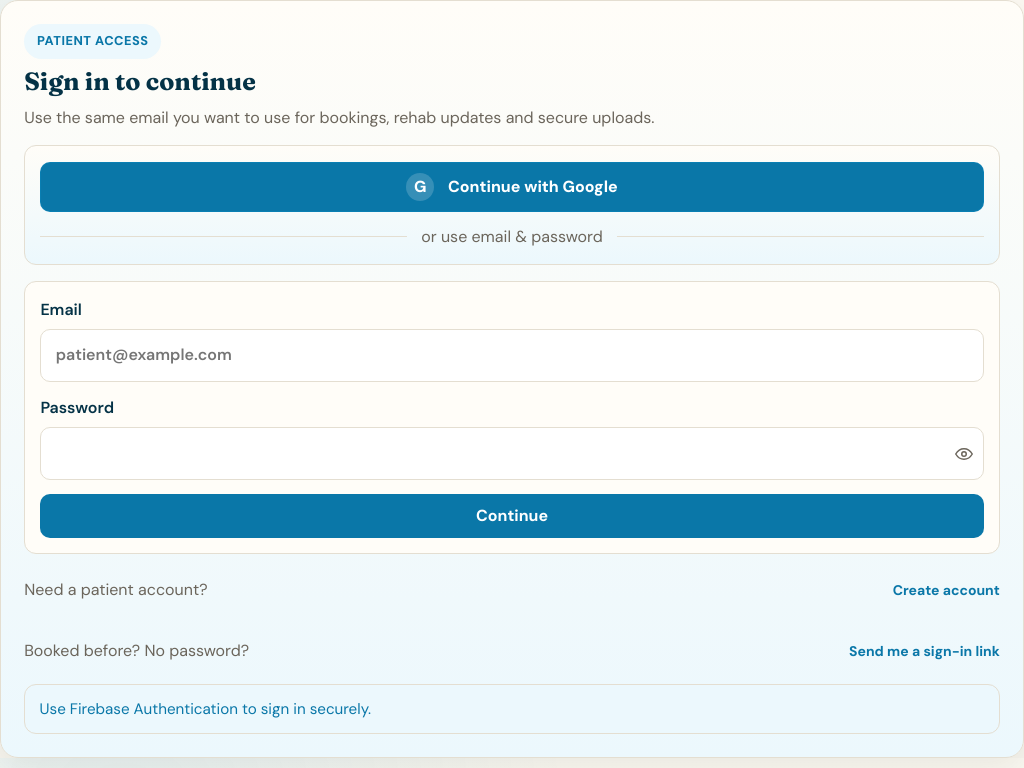
it: AuthPanel › does not redirect after sign-in when redirectTo is null (booking flow continuity)
The image size is (1024, 768).
In the field labelled "Email": (512, 355) [40,329,984,382], type "jane@example.com"
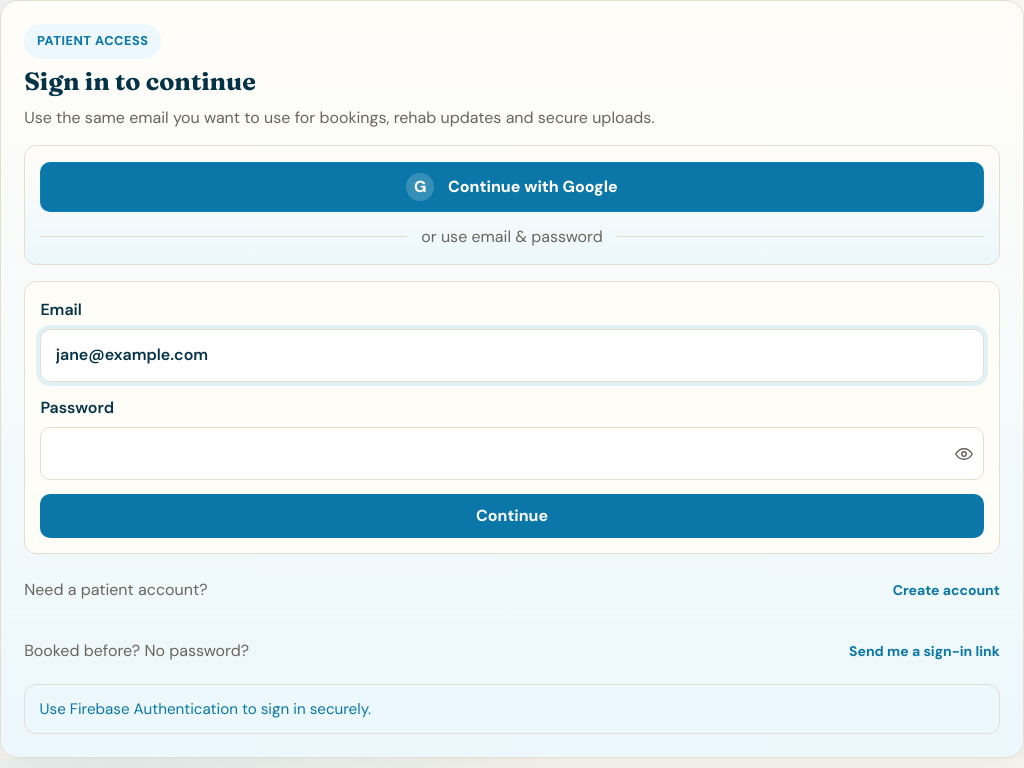
In the password field labelled "Password": (512, 454) [40,427,984,480], type "supersecret1"
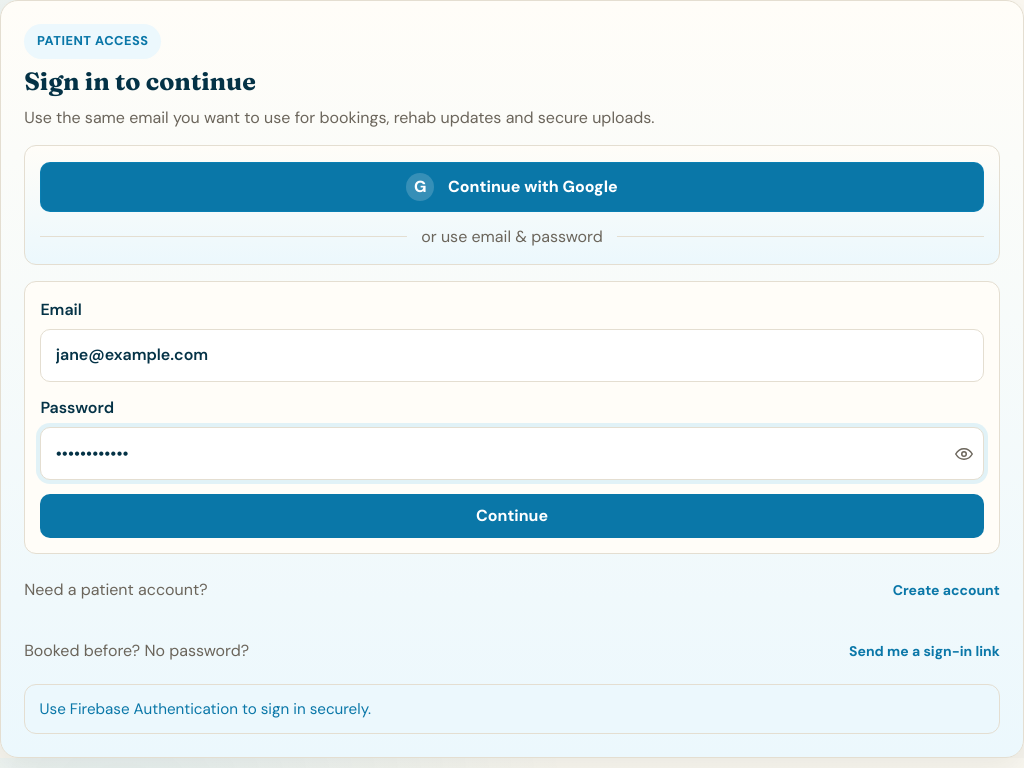
Click the button "Continue": (512, 516) [40,494,984,538]
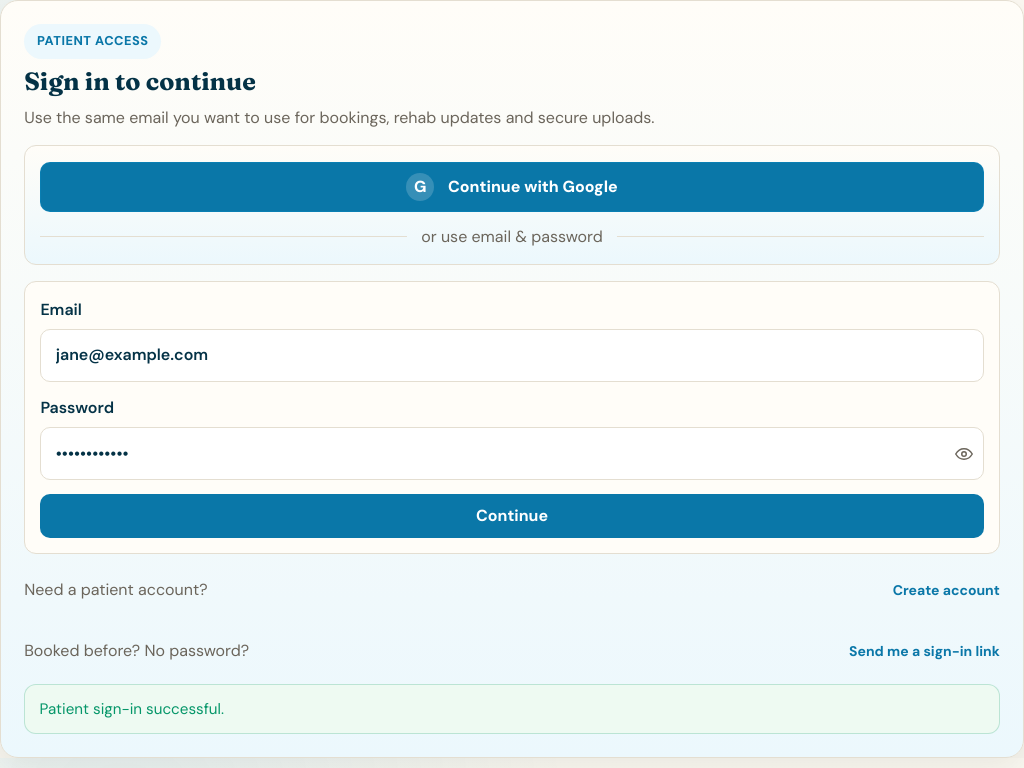
Expected: the text "Patient sign-in successful." is shown, [24,684,1000,734]
